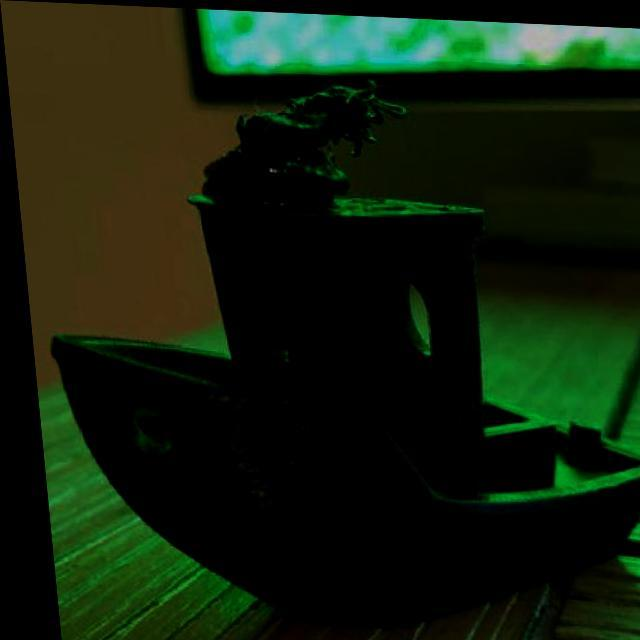spaghetti: (280, 70, 409, 157)
